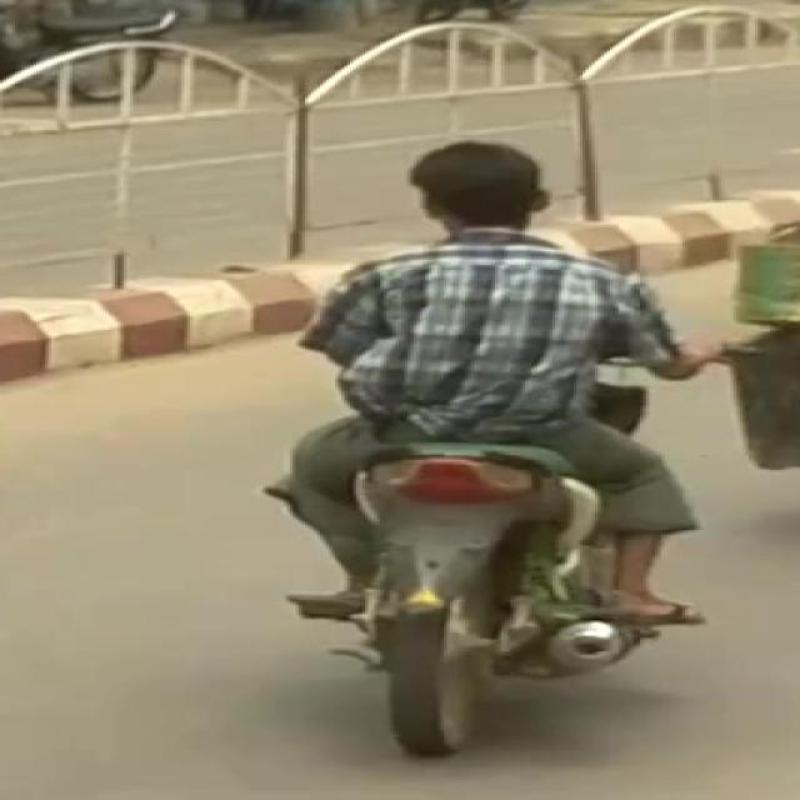nohelmet: (384, 117, 601, 241)
